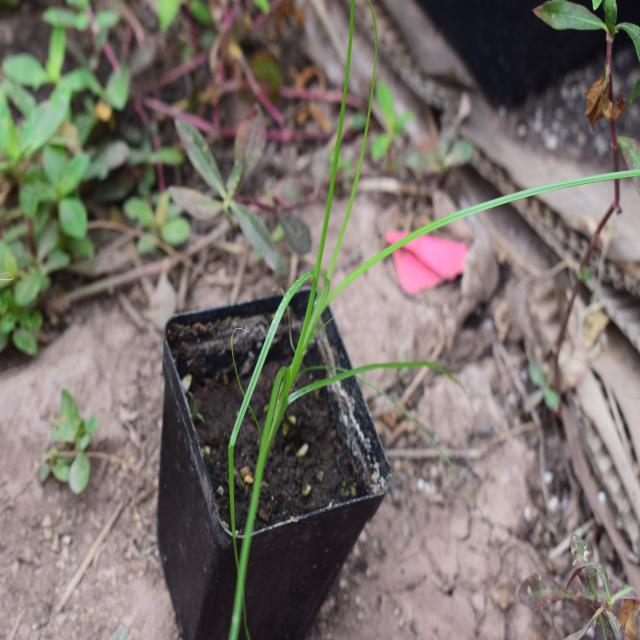sedge: (175, 21, 520, 532)
